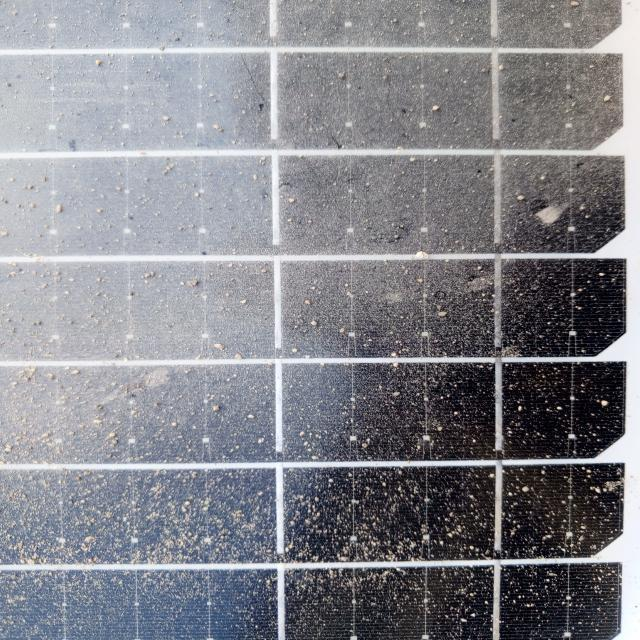Surface Contaminant: (73, 48, 639, 639)
